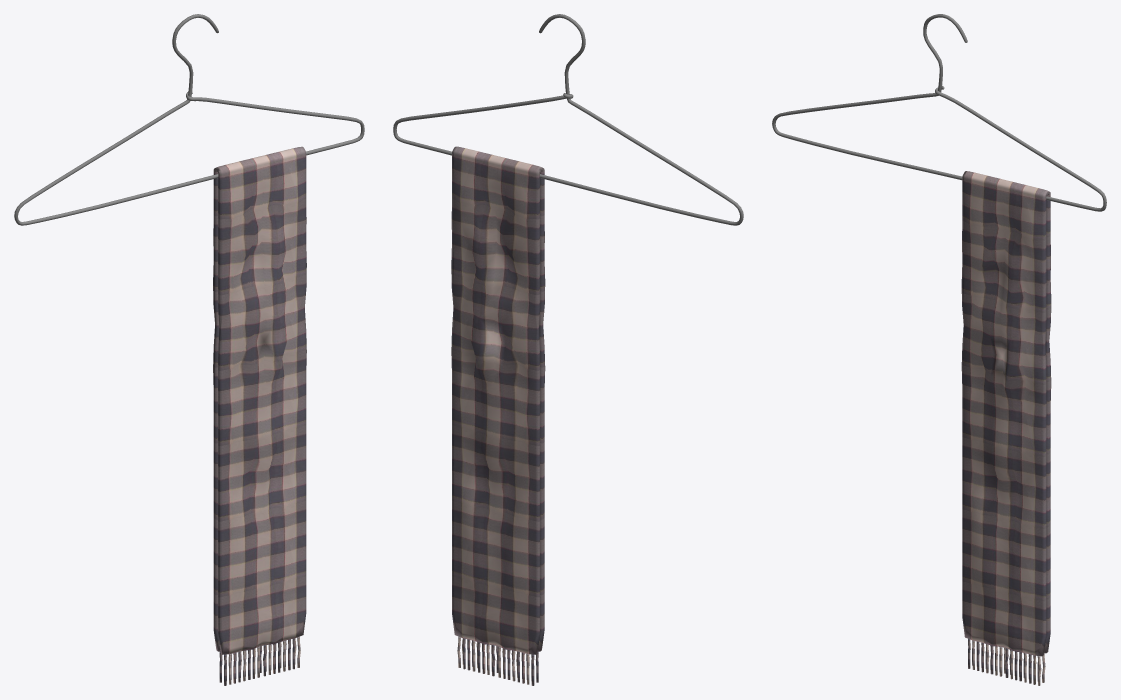
The model's file is scarf.fbx.
3 views of the same model, side by side, from view 1: azimuth 30°, elevation 25°; view 2: azimuth 150°, elevation 25°; view 3: azimuth 330°, elevation 25° (orthographic). The views are drawn at different scales.
Parts seen in each view (by area): view 1: scarf, hanger, scarf fringes; view 2: scarf, hanger, scarf fringes; view 3: scarf, hanger, scarf fringes.
Part boxes in pixels (bbox=[...]): scarf: bbox=[213, 146, 306, 654]; hanger: bbox=[14, 14, 364, 225]; scarf fringes: bbox=[219, 636, 300, 685]; scarf: bbox=[451, 146, 545, 654]; hanger: bbox=[393, 14, 743, 225]; scarf fringes: bbox=[457, 636, 538, 685]; scarf: bbox=[961, 171, 1051, 656]; hanger: bbox=[772, 14, 1106, 211]; scarf fringes: bbox=[968, 639, 1045, 685].
Bounding box in the file's own units: 1.54 × 2.83 × 0.1525.
